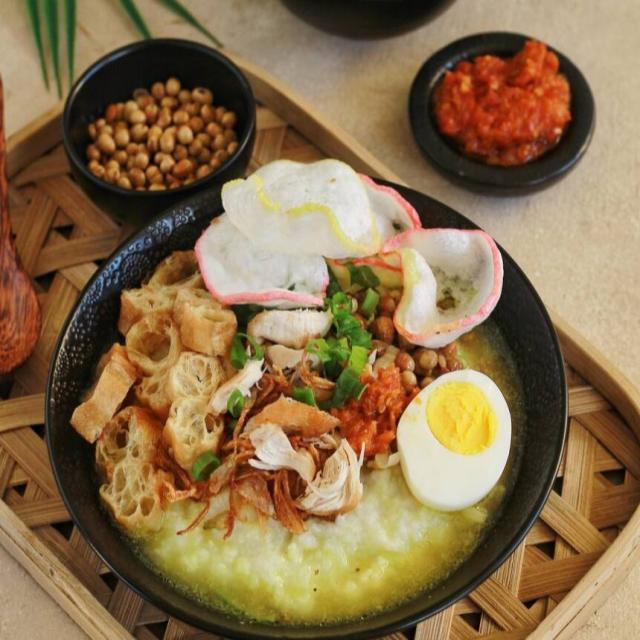bubur ayam: (76, 161, 516, 609)
mangkuk: (61, 38, 257, 198), (408, 29, 596, 191)
sambal: (436, 34, 574, 165), (328, 352, 414, 459)
telur rebus: (396, 368, 514, 512)
